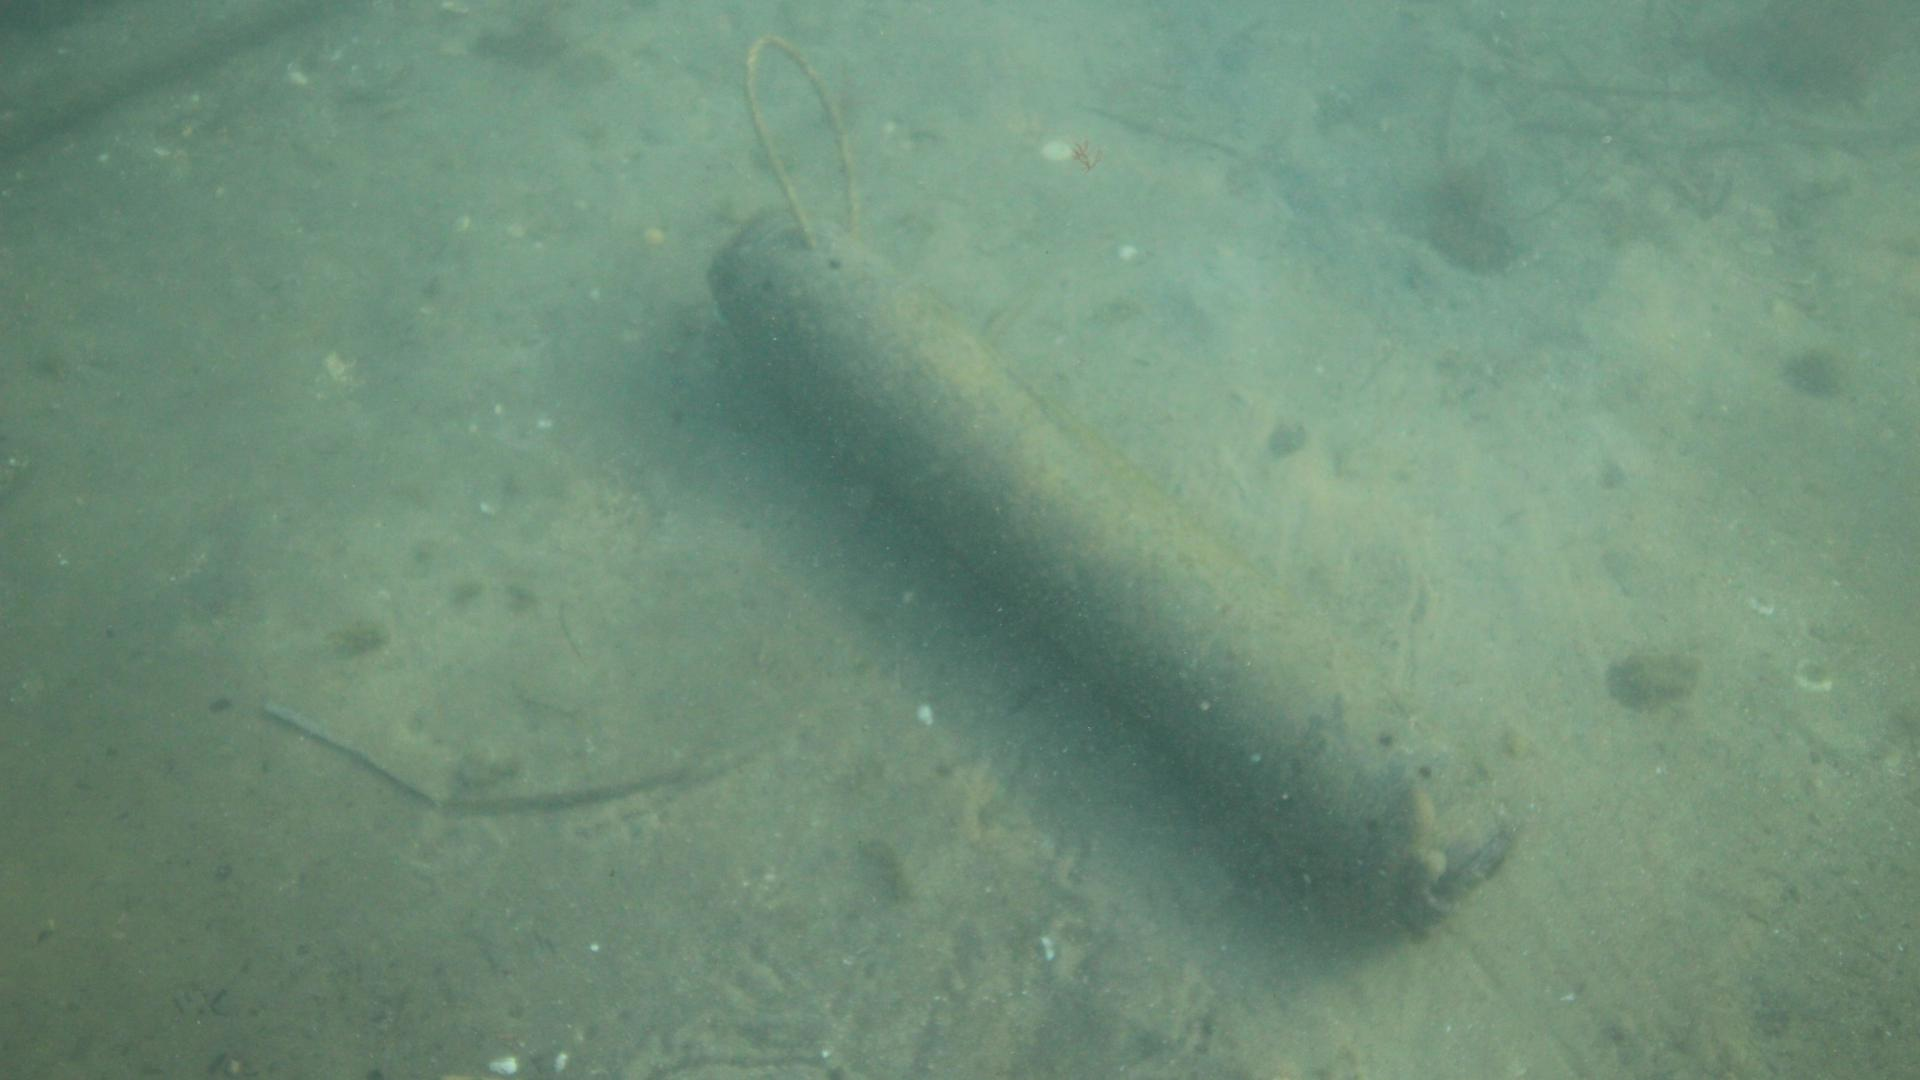eel fish trap: (704, 203, 1518, 936)
rope: (742, 32, 862, 249)
